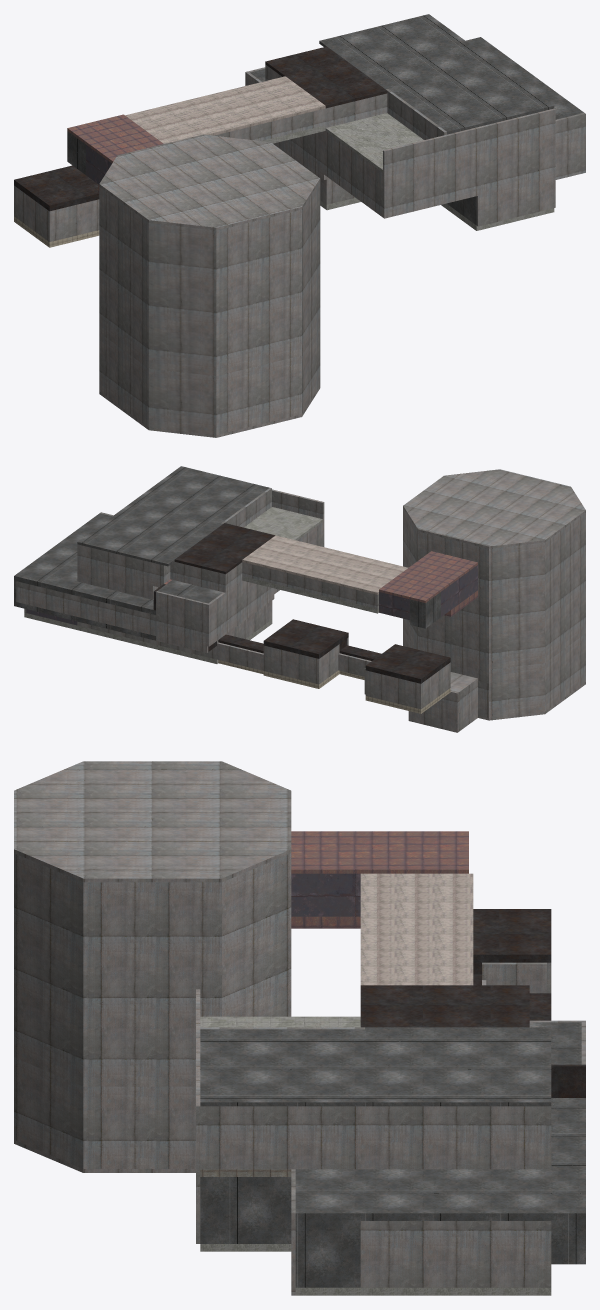
The picture shows the model from 3 angles, top to bottom: view 1: azimuth 30°, elevation 25°; view 2: azimuth 150°, elevation 25°; view 3: azimuth 270°, elevation 25°; orthographic projection. The views are drawn at different scales.
Visible parts, largest first — view 1: entity0_brush181, entity0_brush183, entity0_brush184, entity0_brush185, entity0_brush123, entity0_brush10, entity0_brush180, entity0_brush126, entity0_brush215, entity0_brush73, entity0_brush214, entity0_brush179 (+21 smaller); view 2: entity0_brush181, entity0_brush186, entity0_brush123, entity0_brush185, entity0_brush10, entity0_brush126, entity0_brush190, entity0_brush165, entity0_brush125, entity0_brush212, entity0_brush179, entity0_brush27 (+41 smaller); view 3: entity0_brush181, entity0_brush187, entity0_brush124, entity0_brush123, entity0_brush189, entity0_brush157, entity0_brush10, entity0_brush126, entity0_brush155, entity0_brush188, entity0_brush217, entity0_brush27 (+18 smaller).
Boxes of the visible parts, x1,y1,x2,y2 form: entity0_brush181: (99,134,320,230); entity0_brush183: (216,209,301,376); entity0_brush184: (148,223,216,376); entity0_brush185: (99,187,148,368); entity0_brush123: (319,14,494,89); entity0_brush10: (125,76,325,143); entity0_brush180: (383,127,477,218); entity0_brush126: (388,62,554,134); entity0_brush215: (216,355,301,434); entity0_brush73: (476,154,555,226); entity0_brush214: (148,368,216,434); entity0_brush179: (265,46,387,108); entity0_brush181: (403,469,585,548); entity0_brush186: (489,542,544,669); entity0_brush123: (77,501,222,566); entity0_brush185: (545,513,585,662); entity0_brush10: (242,535,408,594); entity0_brush126: (133,466,269,523); entity0_brush190: (418,595,488,669); entity0_brush165: (16,581,155,635); entity0_brush125: (79,545,153,599); entity0_brush212: (489,663,544,718); entity0_brush179: (174,523,275,574); entity0_brush27: (379,551,477,602); entity0_brush181: (14,761,291,882); entity0_brush187: (83,882,221,1086); entity0_brush124: (295,1106,551,1169); entity0_brush123: (365,1027,551,1106); entity0_brush189: (14,853,83,1086); entity0_brush157: (295,1169,551,1220); entity0_brush10: (360,873,473,985); entity0_brush126: (200,1029,364,1106); entity0_brush155: (360,1221,551,1287); entity0_brush188: (222,853,291,1016); entity0_brush217: (83,1086,195,1168); entity0_brush27: (291,831,468,873).
Bounding box in the file's own units: 3056 × 1200 × 2112.
11 materials, 11 textured.
